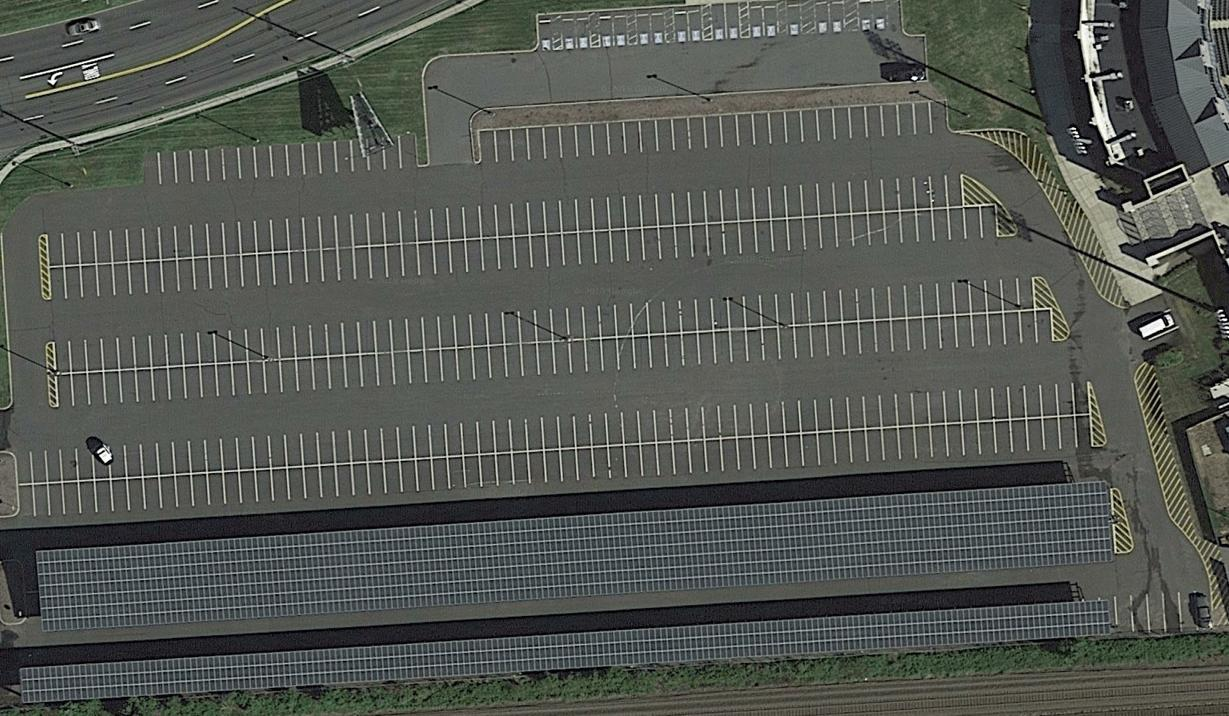parkingspot: (13, 377, 1092, 486), (16, 412, 1095, 519), (54, 307, 1054, 410), (52, 274, 1037, 376), (47, 203, 1001, 301), (43, 170, 966, 269), (478, 99, 949, 167), (142, 133, 419, 187), (1113, 587, 1214, 633), (710, 1, 743, 43), (634, 7, 667, 47), (672, 5, 705, 45), (747, 0, 780, 40), (597, 8, 629, 49), (561, 11, 592, 52), (813, 0, 847, 36), (857, 0, 889, 33), (785, 0, 803, 38), (537, 19, 555, 53)
